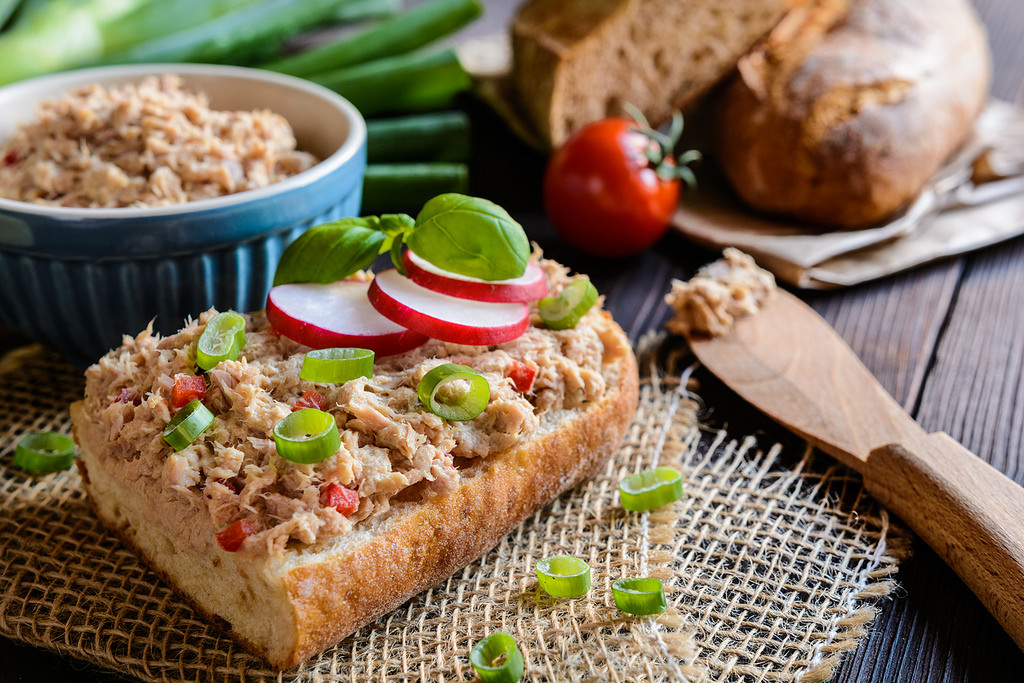slice of bread: (106, 466, 542, 620)
